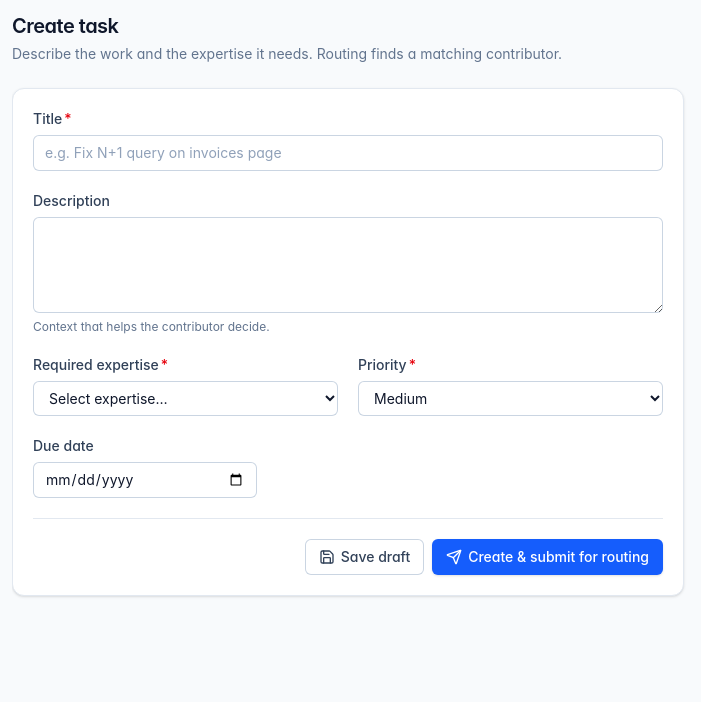
Scenario: NewTaskPage › maps server-side validation errors onto fields
Type "Reserved title" into the field labelled "Title*" at x=348, y=153, box x1=33 y1=135 x2=663 y2=171
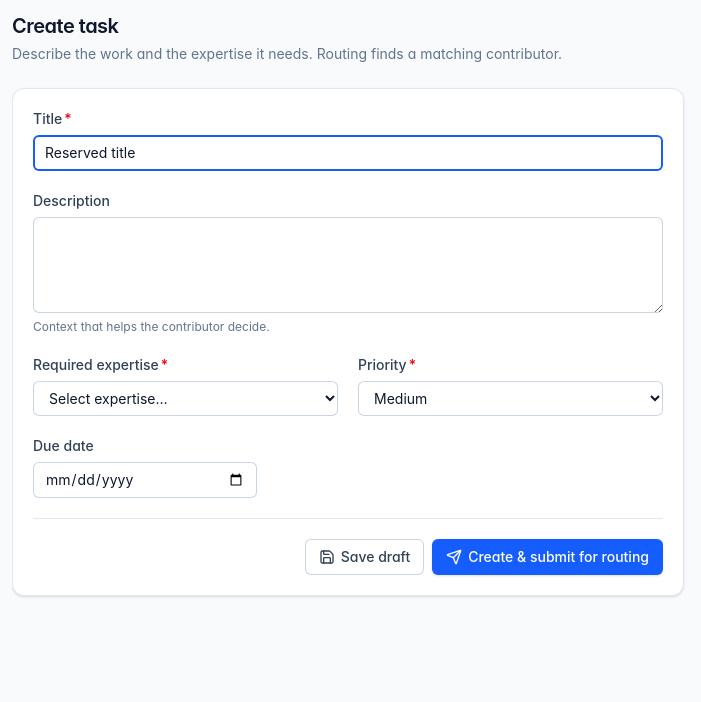
Select "React (3 contributors)" in the dropdown labelled "Required expertise*" at x=186, y=398, box x1=33 y1=381 x2=338 y2=416
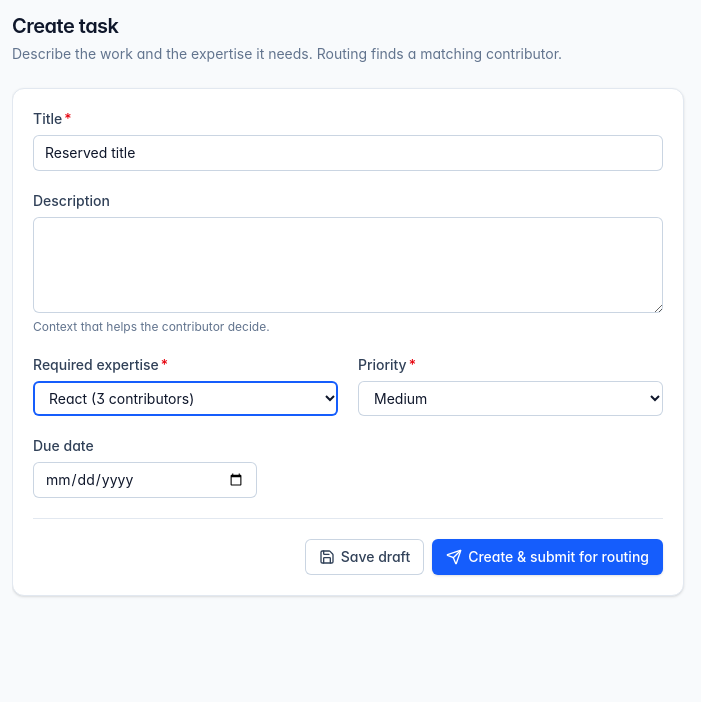
Click the button "Save draft" at x=364, y=557, box x1=305 y1=539 x2=424 y2=575
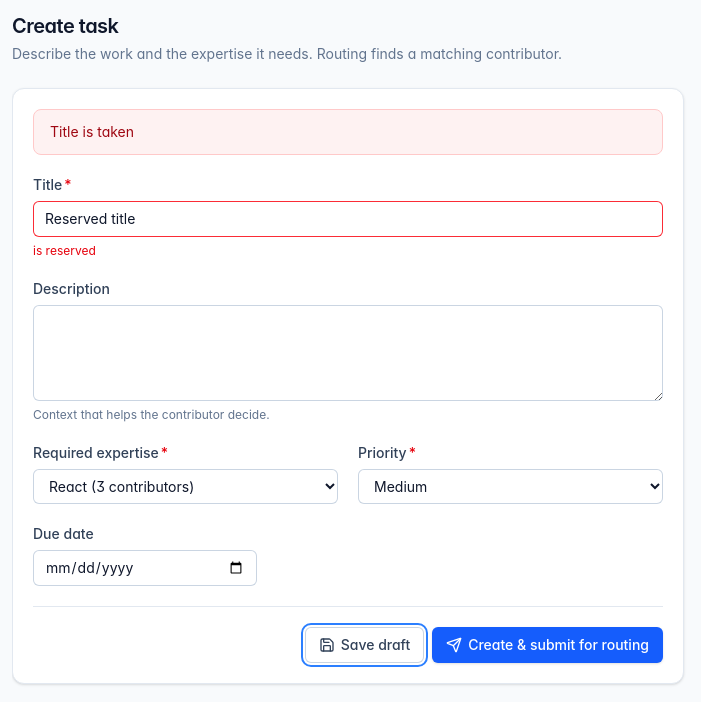
Expected: the text "is reserved" is shown, x1=33 y1=243 x2=96 y2=258
